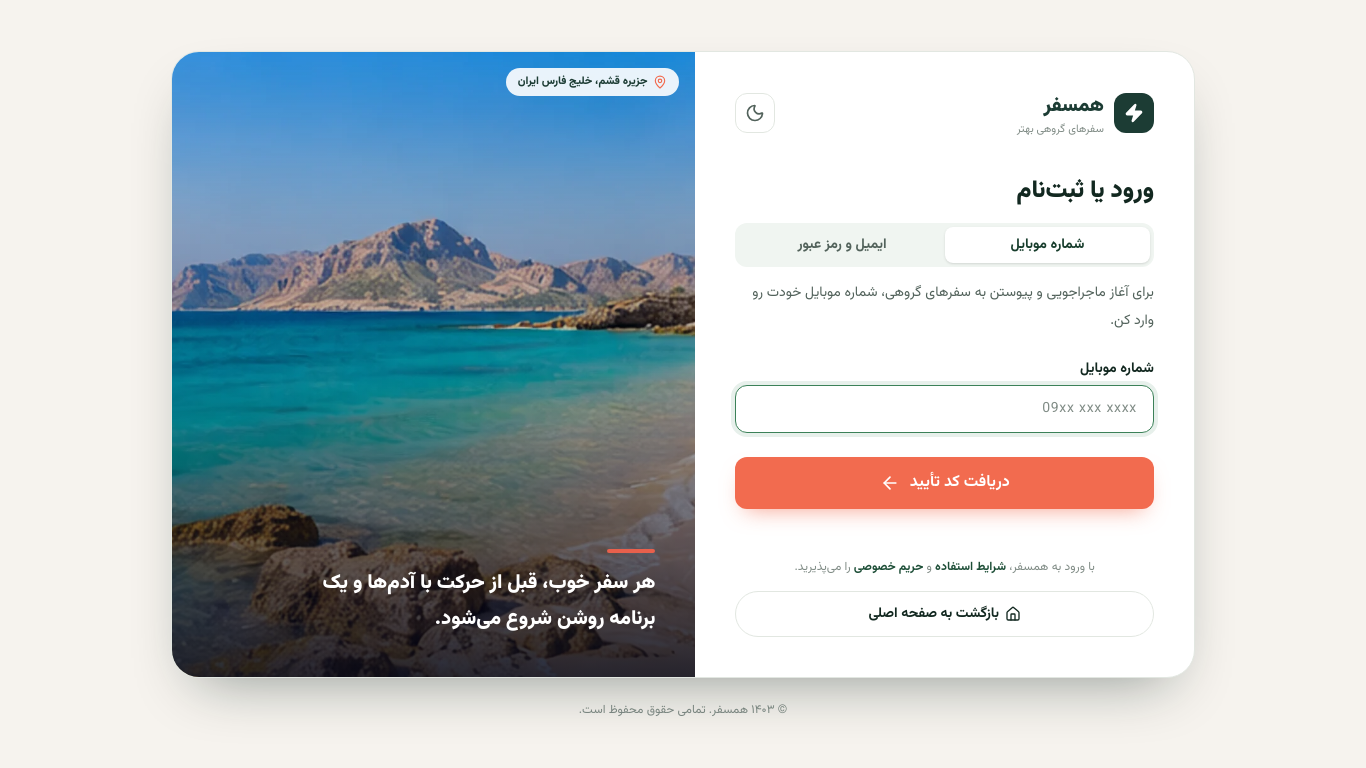
Test: AuthPage (OTP login against the mock API) › shows the server error for a wrong code and keeps the user on the OTP step
Type "09351234567" into the field labelled "شماره موبایل".
click(945, 408); type("09351234567")  # box 736,384 -> 1154,432
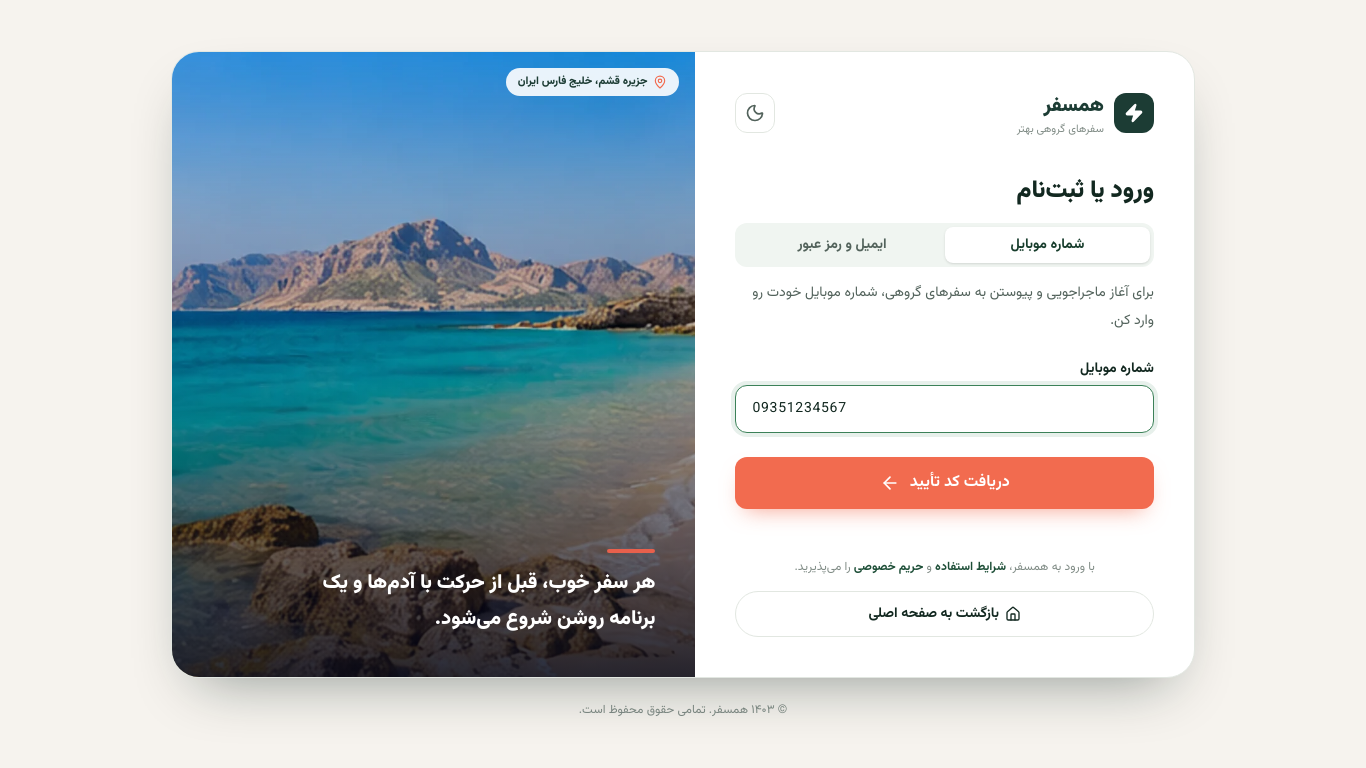
Click the button "دریافت کد تأیید".
click(945, 482)  # box 736,456 -> 1154,508
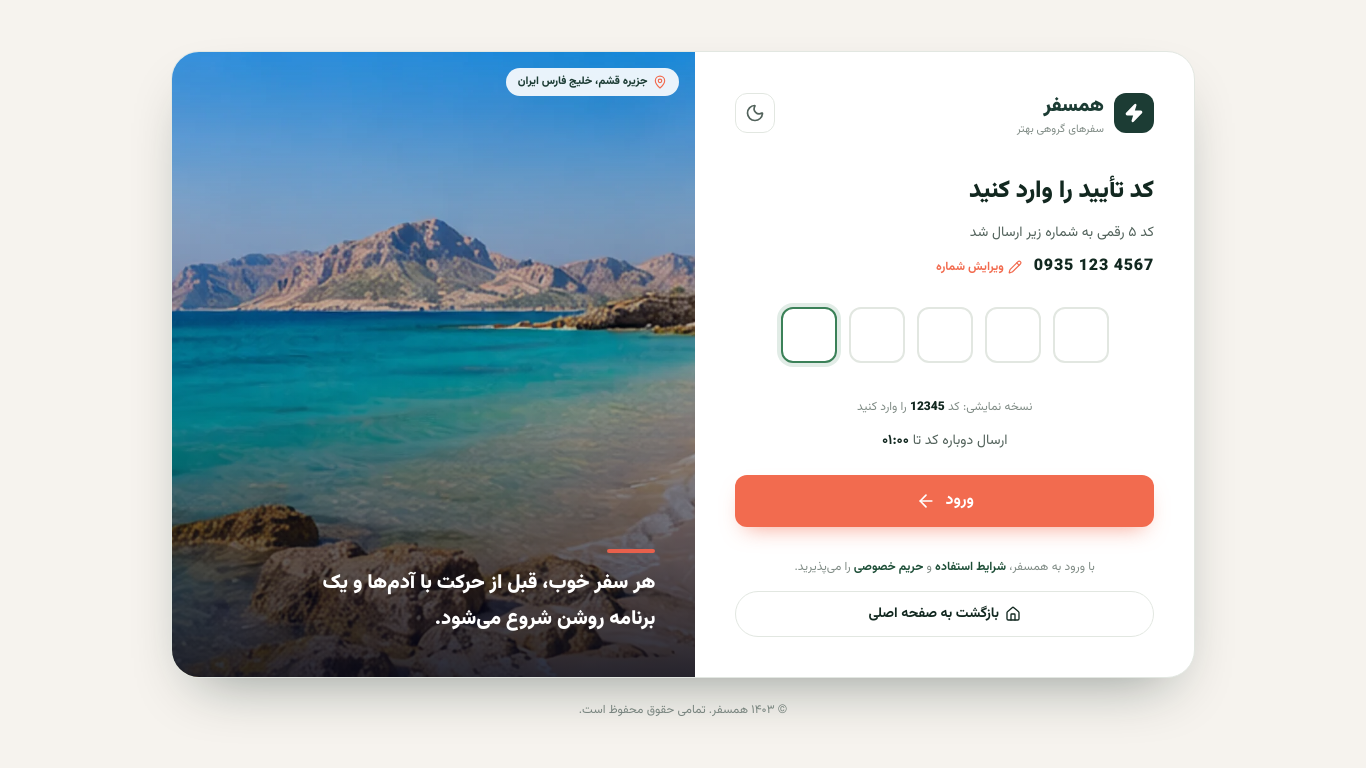
Expected: the heading "کد تأیید را وارد کنید" is shown, 969,174 -> 1154,206
Type keys "11111"
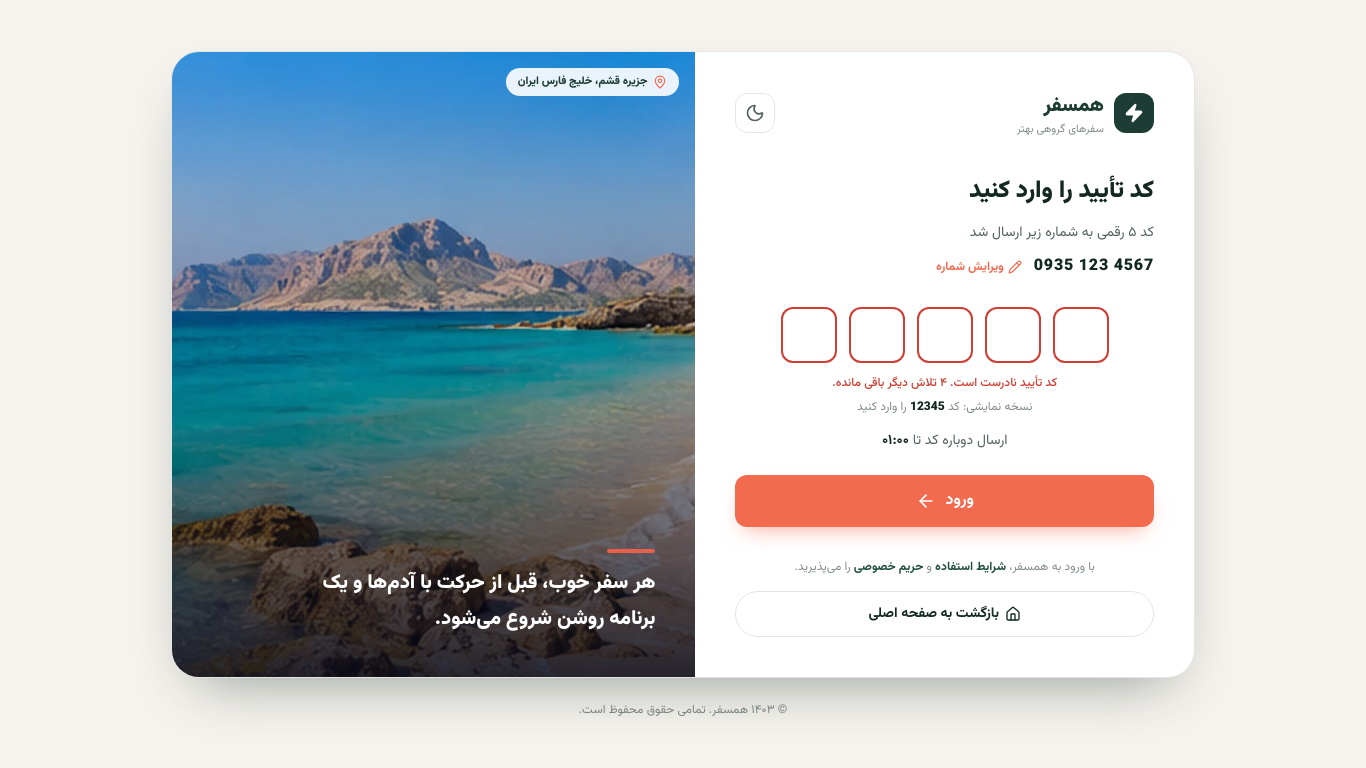
Expected: the text "کد تأیید نادرست است. ۴ تلاش دیگر باقی مانده." is shown, 832,374 -> 1057,392
